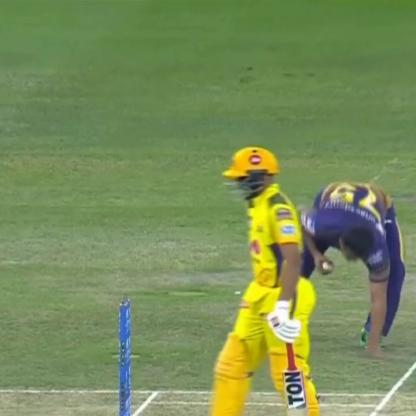ball: (314, 255, 336, 281)
